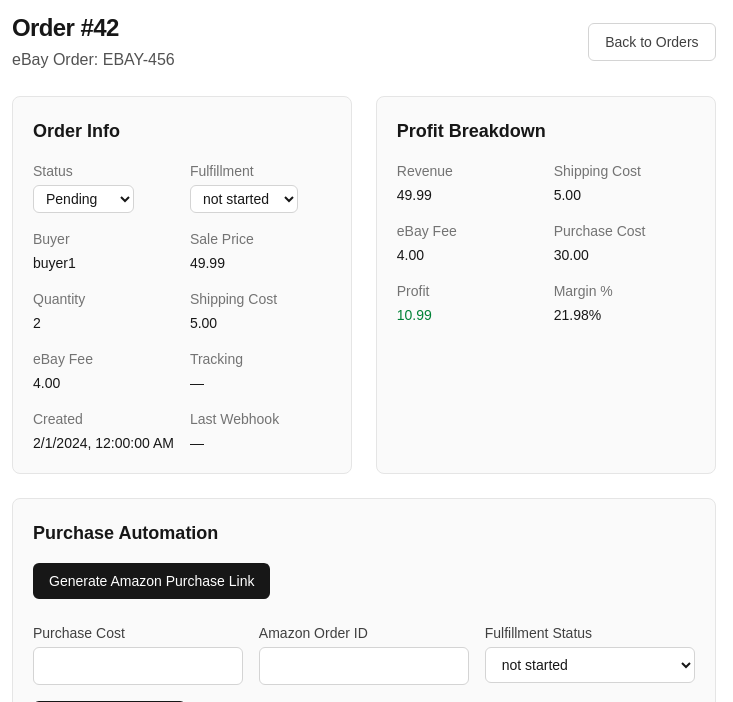
Test: OrderDetailPage › generates purchase link
Expected: the heading "Order #42" is shown, [12,14,119,41]
Click the button "Generate Amazon Purchase Link" at (152, 581), box [33,563,270,599]
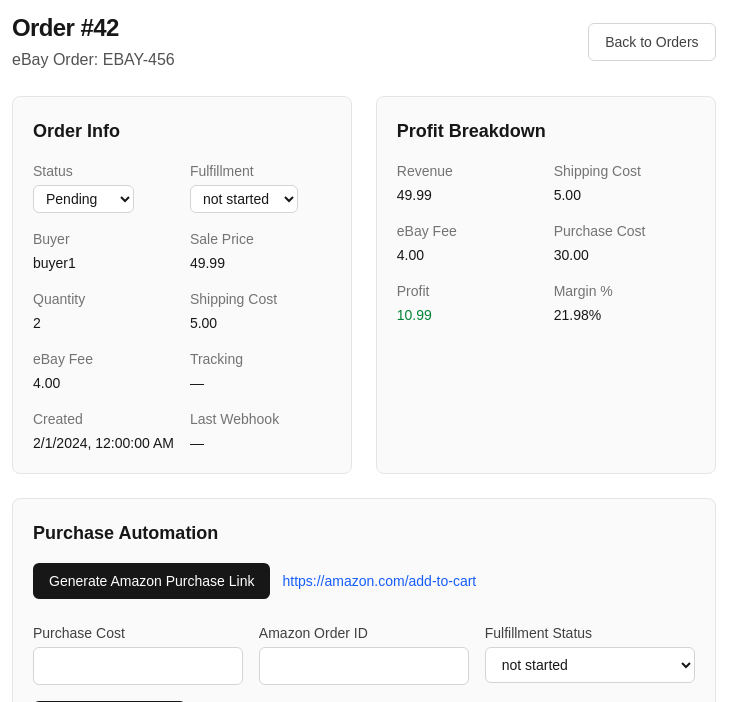
Result: the link "https://amazon.com/add-to-cart" is shown at [282,571,476,591]
